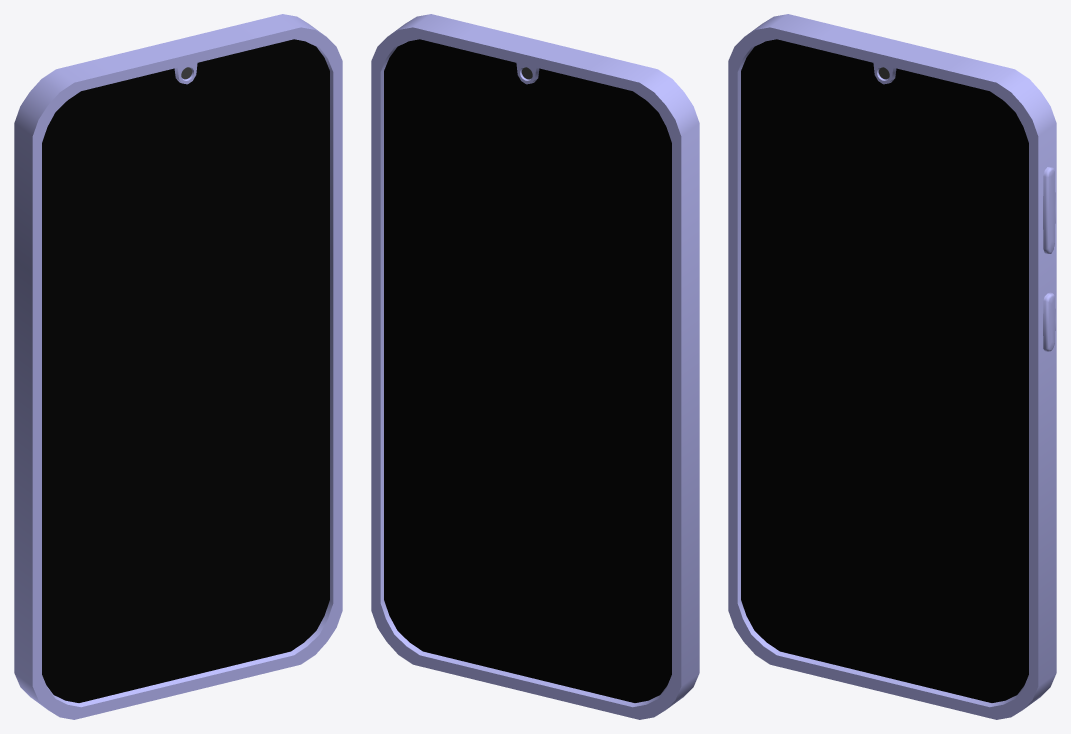
File: Reject4.fbx
The picture shows the model from 3 angles, left to right: view 1: azimuth 30°, elevation 25°; view 2: azimuth 150°, elevation 25°; view 3: azimuth 330°, elevation 25°; orthographic projection.
Visible parts, largest first — view 1: reject.003; view 2: reject.003; view 3: reject.003.
Boxes of the visible parts, <box> form: reject.003: <box>14,14,342,719</box>; reject.003: <box>371,14,699,719</box>; reject.003: <box>728,14,1056,719</box>.
Bounding box in the file's own units: 1.13 × 2.18 × 0.1135.
